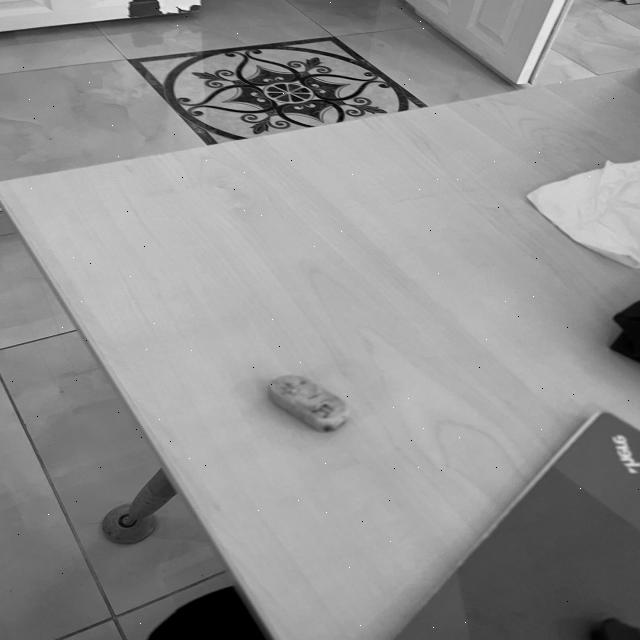eraser: (262, 365, 361, 441), (583, 606, 640, 640)
